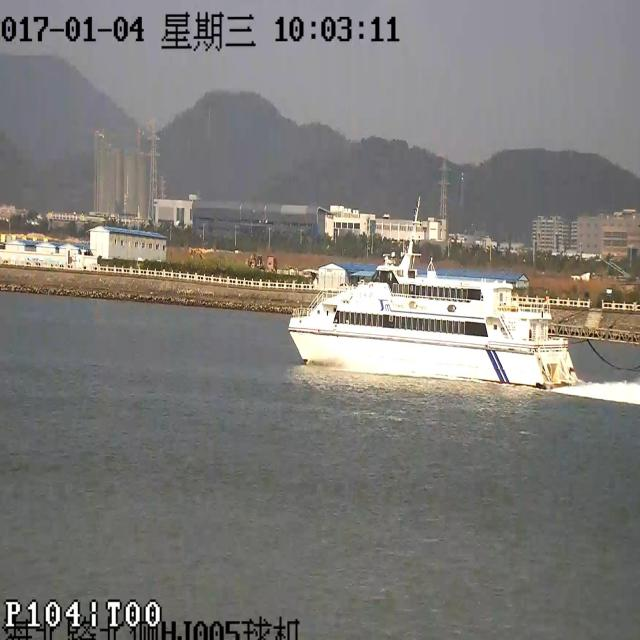passenger ship: (285, 227, 579, 397)
